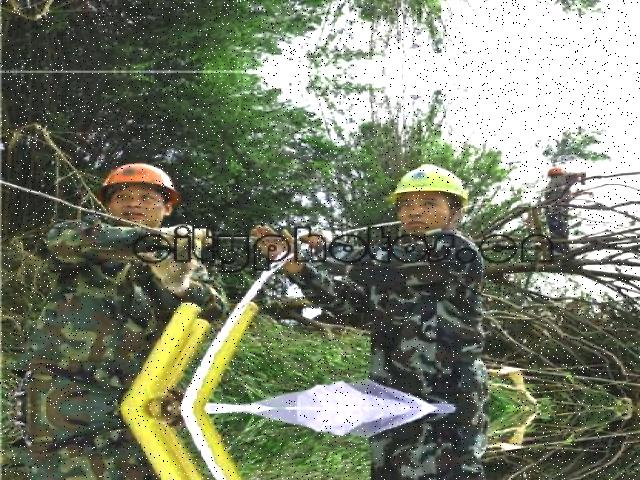Helmet: (385, 158, 469, 206), (93, 156, 179, 200)
